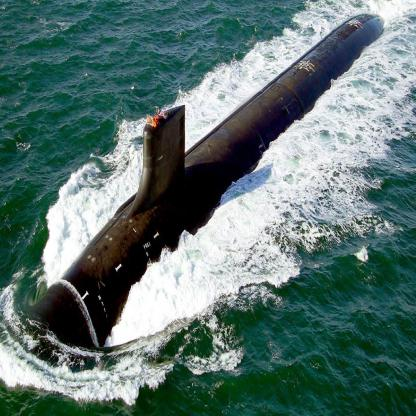Submarine: (29, 14, 385, 351)
